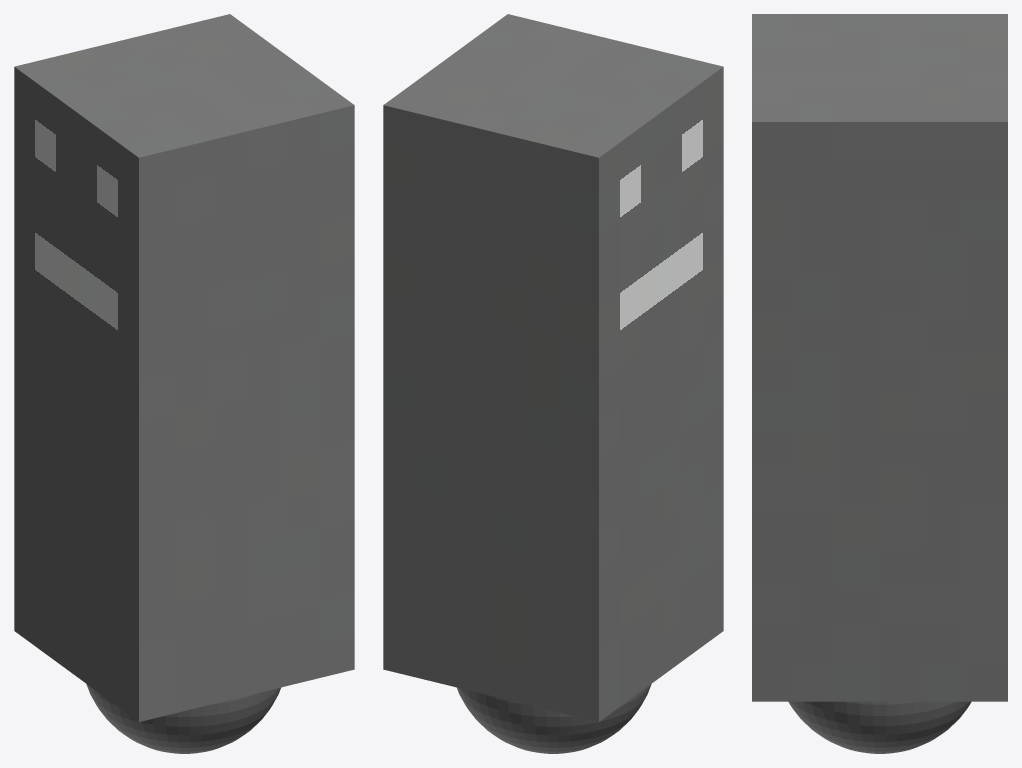
The model's file is robot_a1.gltf.
3 renders of one model, left to right at view 1: azimuth 30°, elevation 25°; view 2: azimuth 150°, elevation 25°; view 3: azimuth 270°, elevation 25°, orthographic. The views are drawn at different scales.
Visible parts, largest first — view 1: cube, sphere; view 2: cube, sphere; view 3: cube, sphere.
Boxes of the visible parts, x1,y1,x2,y2 form: cube: [14, 14, 354, 721]; sphere: [86, 684, 280, 753]; cube: [383, 14, 723, 721]; sphere: [457, 684, 651, 753]; cube: [752, 14, 1007, 701]; sphere: [788, 701, 971, 753].
Size of the model in its own units: 0.375 by 1.09 by 0.375.
Materials: 2 (2 with a texture image).
